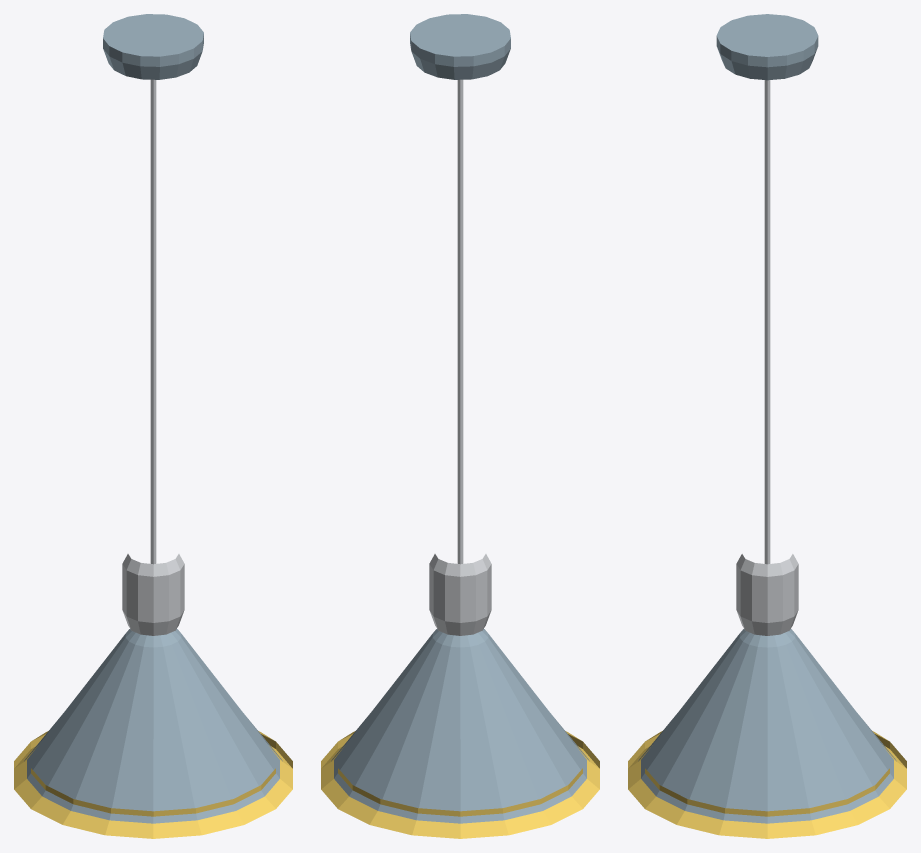
The model's file is animated-mechanisms-kit-hanging-lamp-swing-bb2a7ef3__24645.glb.
3 views of the same model, side by side, from view 1: azimuth 30°, elevation 25°; view 2: azimuth 150°, elevation 25°; view 3: azimuth 270°, elevation 25° (orthographic).
Visible parts, largest first — view 1: pendant/paint, pendant/steel, pendant/accent, hanging-lamp-swing; view 2: pendant/paint, pendant/steel, pendant/accent, hanging-lamp-swing; view 3: pendant/paint, pendant/steel, pendant/accent, hanging-lamp-swing.
Part boxes in pixels (<box>): pendant/paint: <box>24,629,282,823</box>; pendant/steel: <box>122,79,184,635</box>; pendant/accent: <box>14,731,292,838</box>; hanging-lamp-swing: <box>103,14,203,79</box>; pendant/paint: <box>331,629,589,823</box>; pendant/steel: <box>429,79,491,635</box>; pendant/accent: <box>321,731,599,838</box>; hanging-lamp-swing: <box>410,14,510,79</box>; pendant/paint: <box>638,629,896,823</box>; pendant/steel: <box>736,80,798,635</box>; pendant/accent: <box>628,731,906,838</box>; hanging-lamp-swing: <box>716,14,818,80</box>.
Bounding box in the file's own units: 1 × 2.9 × 0.9849.
